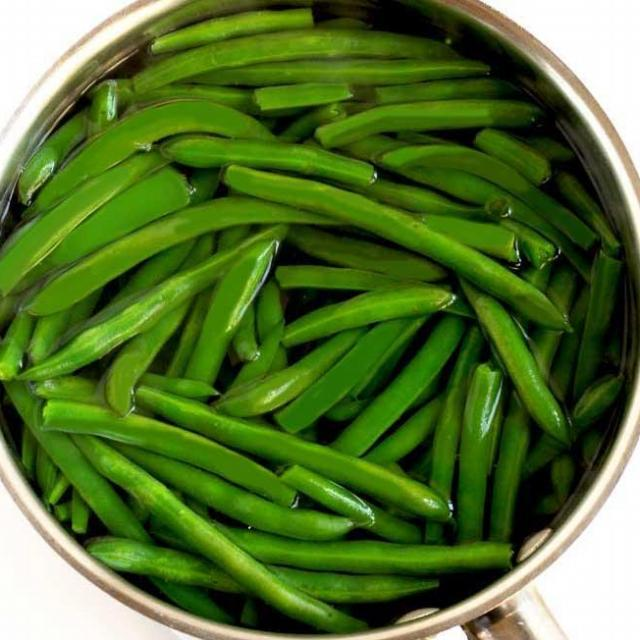Beans: (0, 0, 635, 614)
